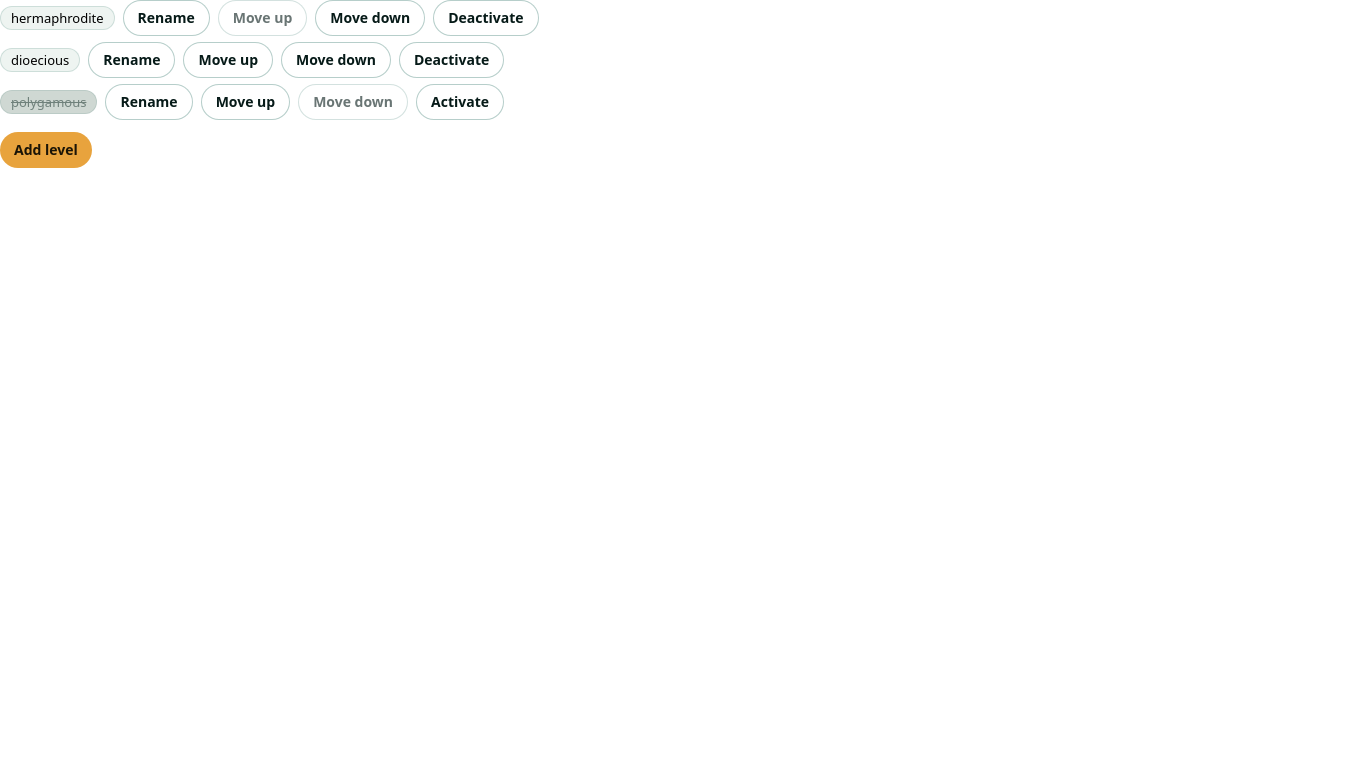
it: RFC-62 R6 LevelsEditor › adds a level through the dialog and invalidates the dictionary
Click the button "Add level". click: coordinates (46, 150)
box: x1=0 y1=132 x2=92 y2=168
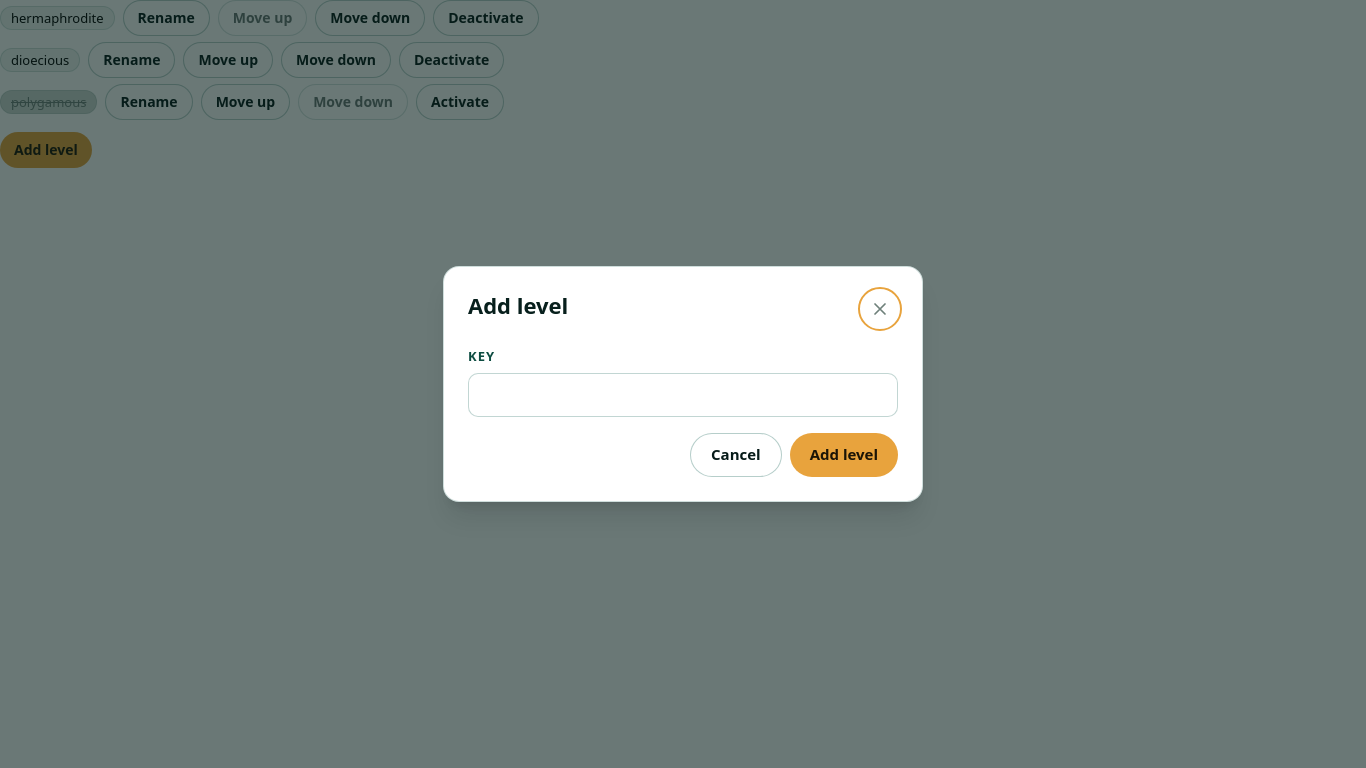
Type "monoecious" into the field labelled "Key". click: coordinates (683, 395)
box: x1=468 y1=373 x2=898 y2=417
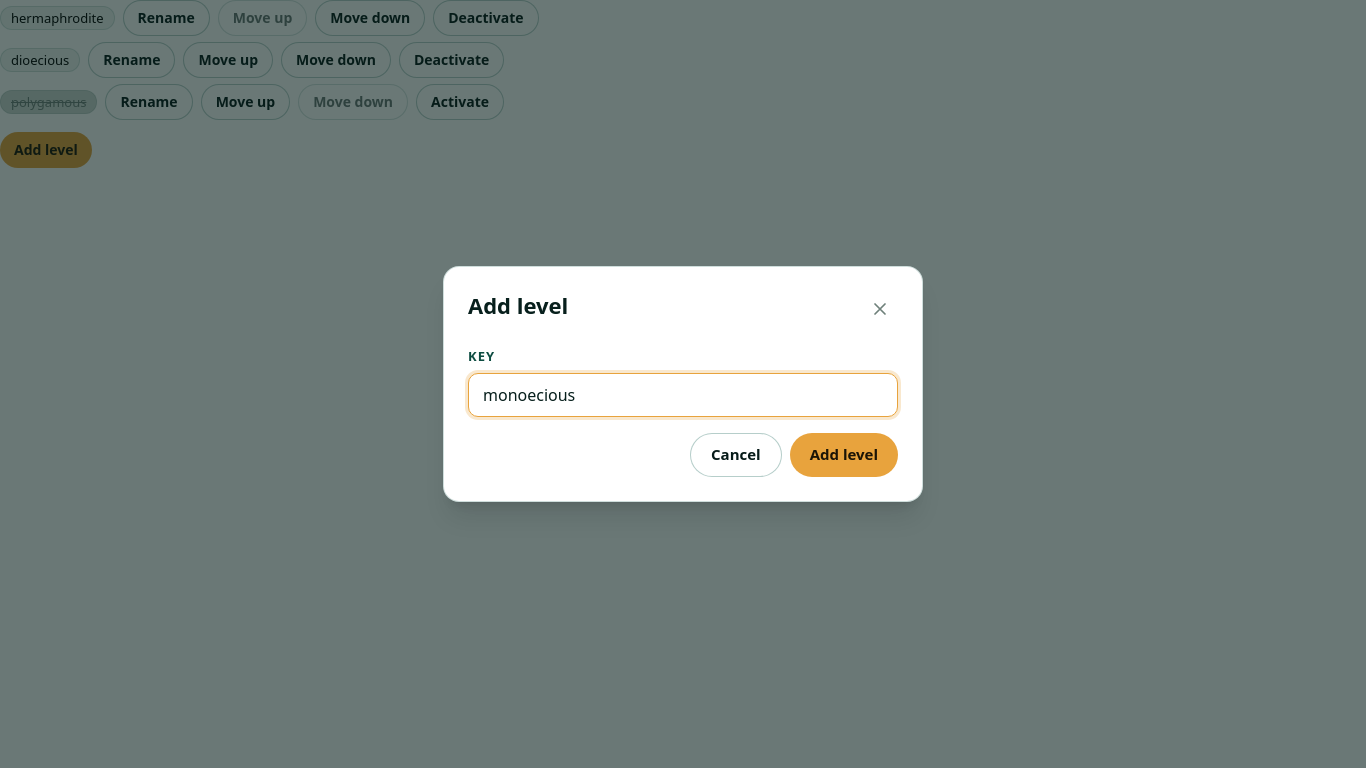
Click the button "Add level". click: coordinates (844, 455)
box: x1=790 y1=433 x2=898 y2=477
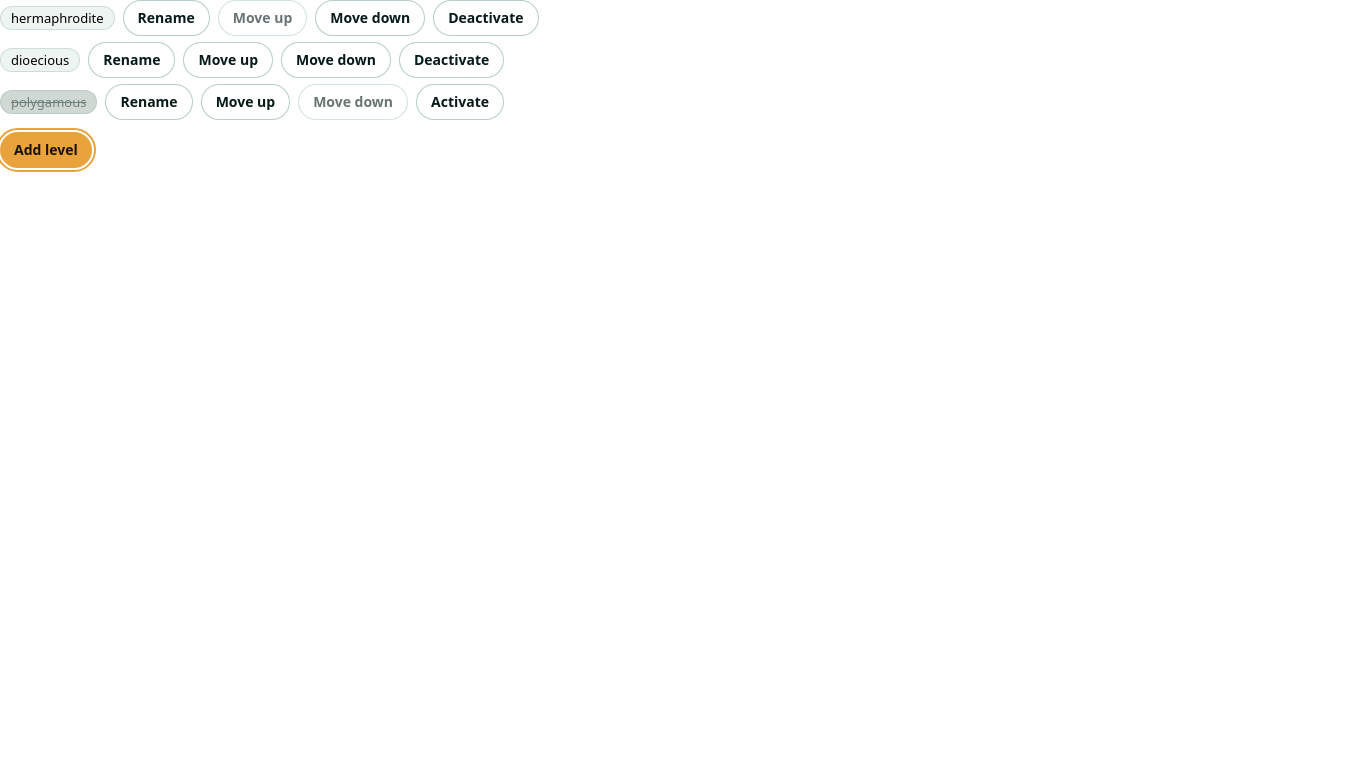
Now the dialog is gone
